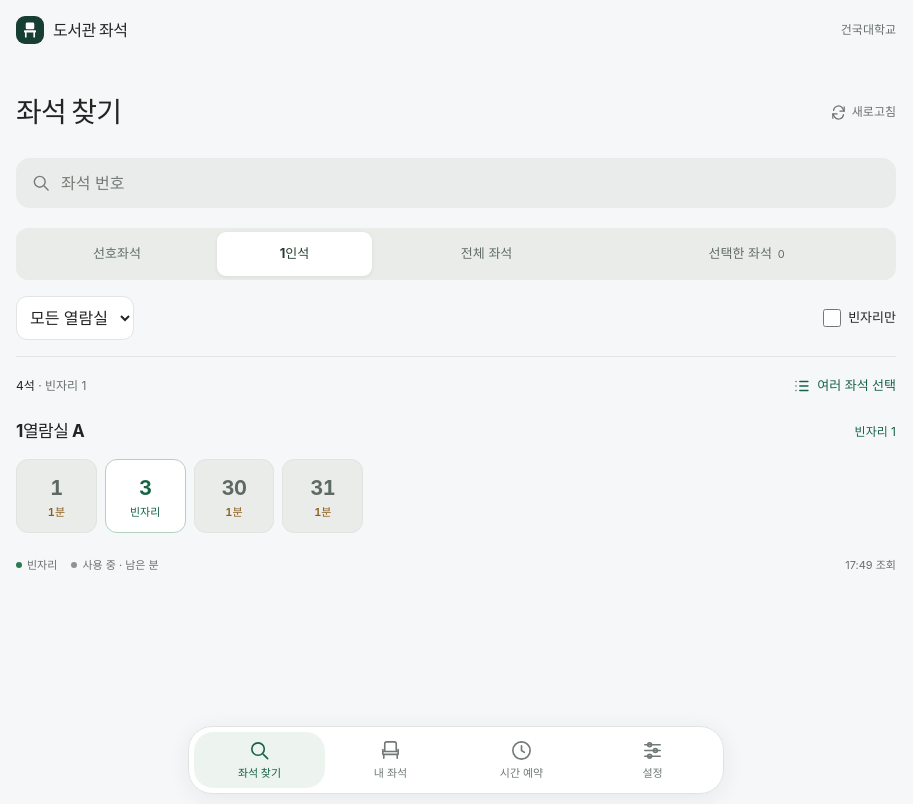
Test: React app with the existing account API › searches across all rooms from the directory and returns when cleared
This screenshot has width=913, height=804.
expect the heading "좌석 찾기" is shown: met, box [16,94,121,130]
Click the button "전체 좌석" at (487, 254), box [375,232,598,276]
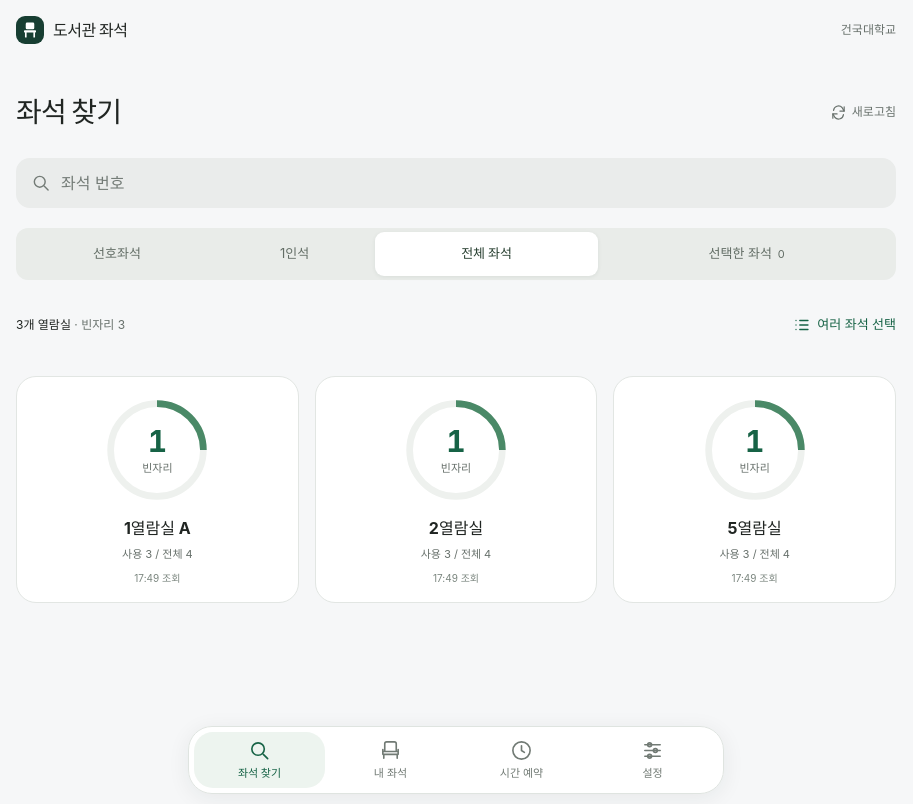
Type "3" into the search field at (476, 183), box [61,158,890,208]
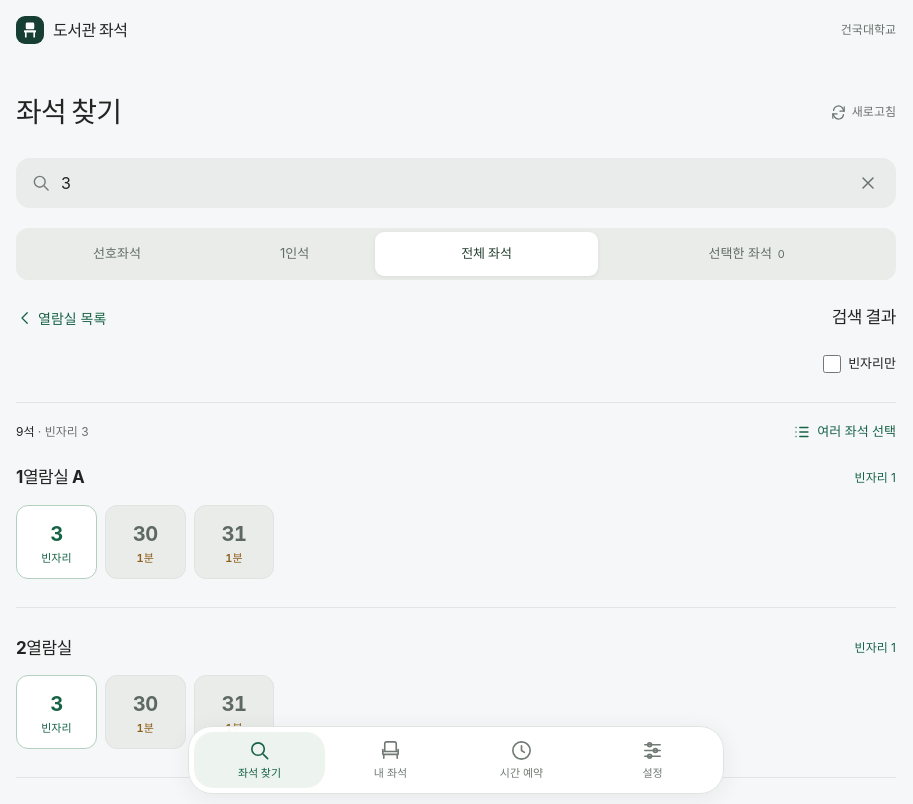
expect the number of buttons with class "seat-cell" is 9: met
Click the button named "검색어 지우기" at (868, 183), box [846,161,890,205]
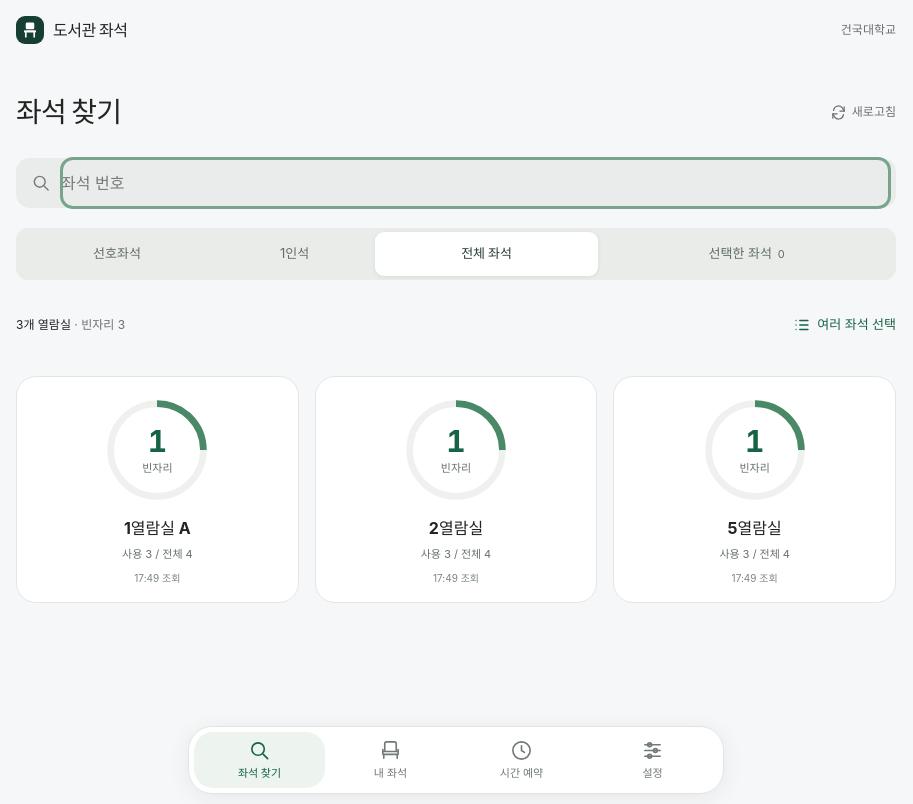
expect the number of buttons with class "room-card" is 3: met
Click the button with aria-label "1열람실 A 좌석 보기" at (157, 489), box [16,376,299,602]
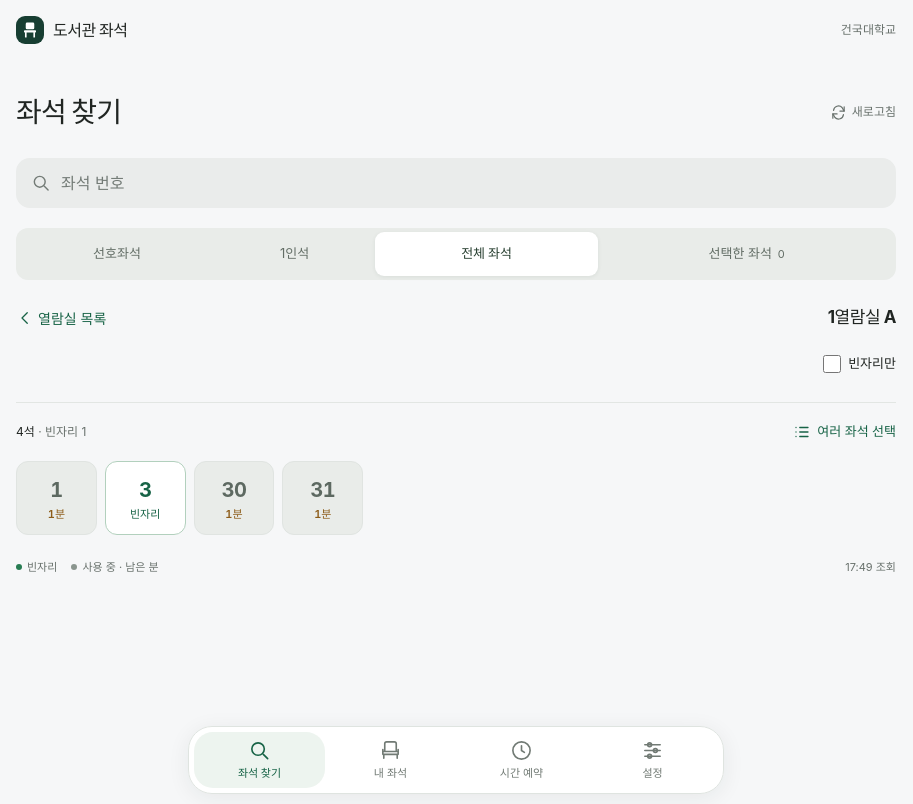
Click the checkbox labelled "빈자리만" at (832, 364), box [823,355,841,373]
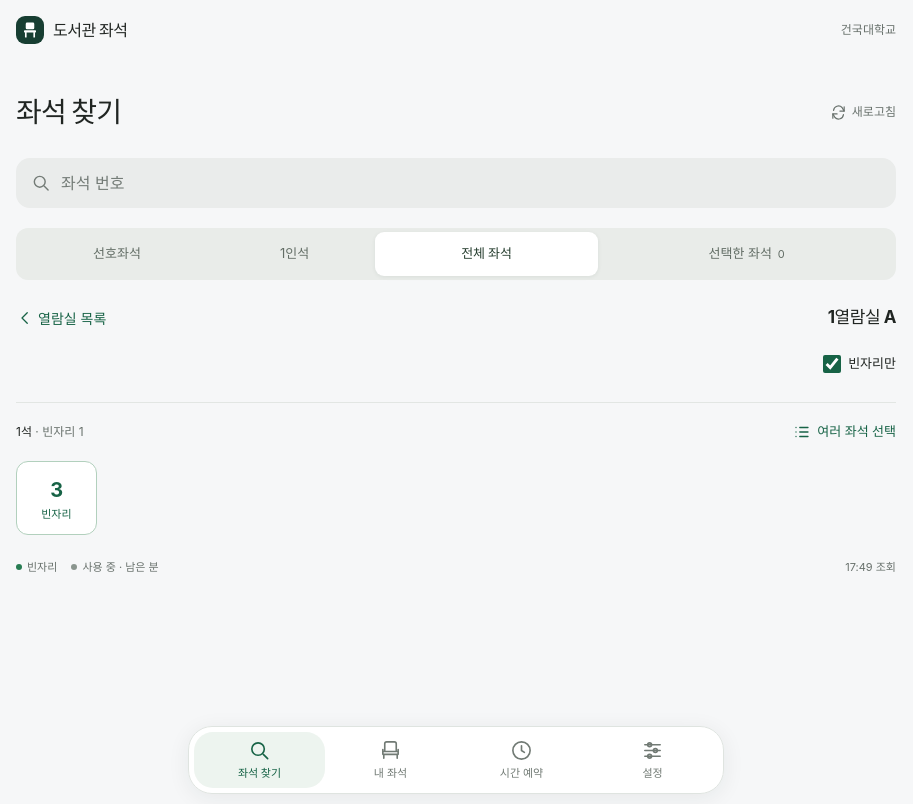
expect the number of buttons with class "seat-cell" is 1: met, box [16,461,97,535]
